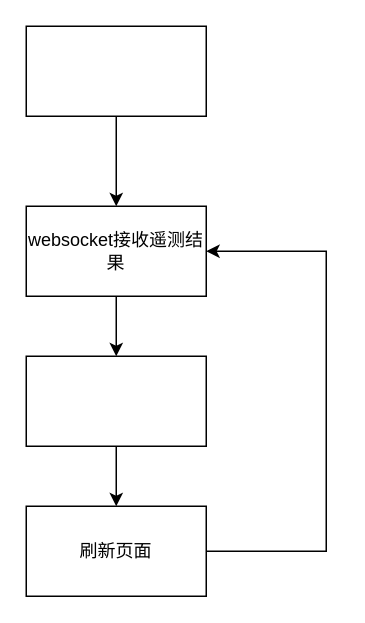
The diagram is 365 pixels wide and 623 high, and some of its shapes have lost their labels. Here are the shapes that lost their labels. From the top down, the box of each, then its label:
(25, 25, 206, 116): 页面初始化
(25, 355, 206, 446): 根据参数代号渲染页面
